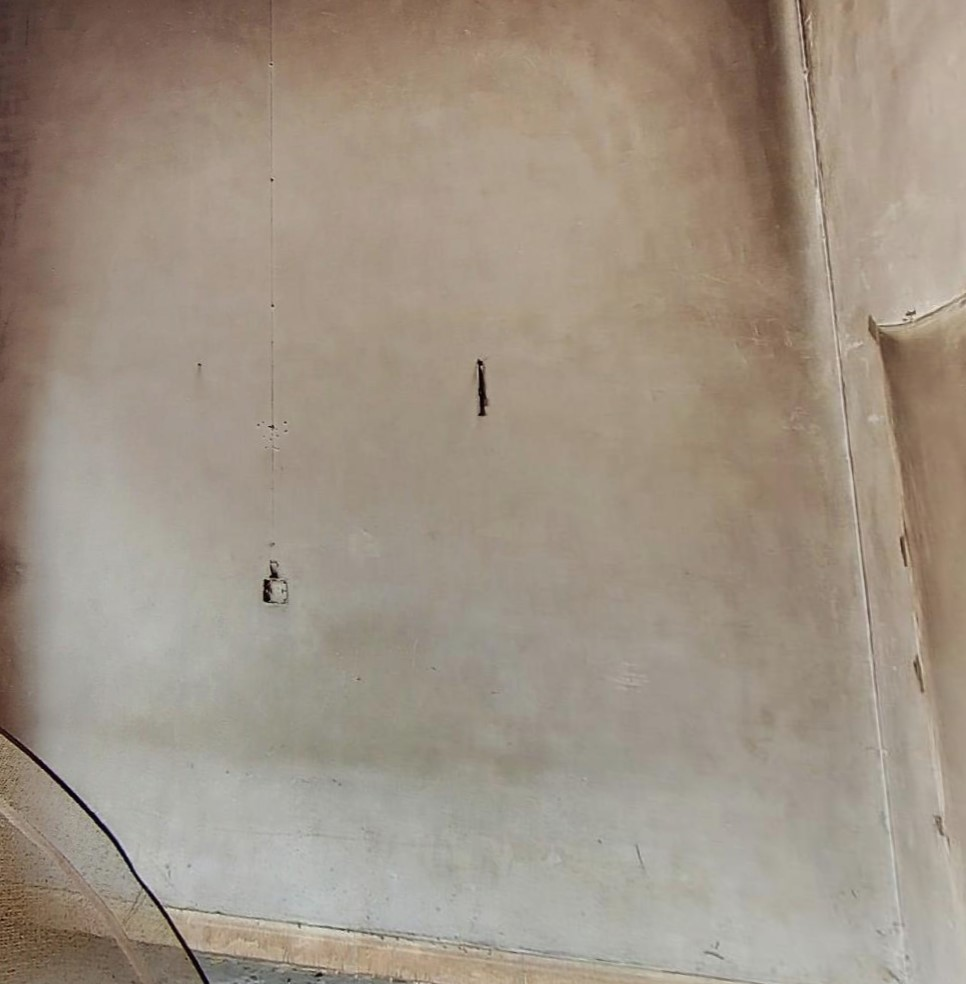Damage_level1: (471, 7, 836, 317), (7, 4, 373, 307), (308, 630, 712, 804), (673, 376, 858, 651), (864, 324, 962, 706), (12, 333, 42, 807)
